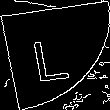L_N: (32, 27, 78, 83)
